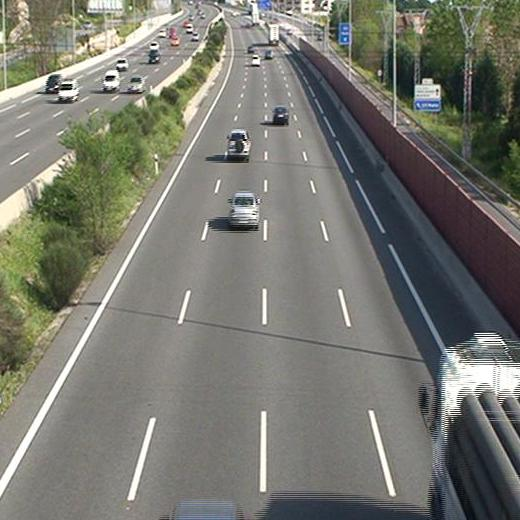car: (229, 194, 259, 224), (228, 130, 251, 155), (272, 106, 289, 122), (250, 55, 261, 65)
